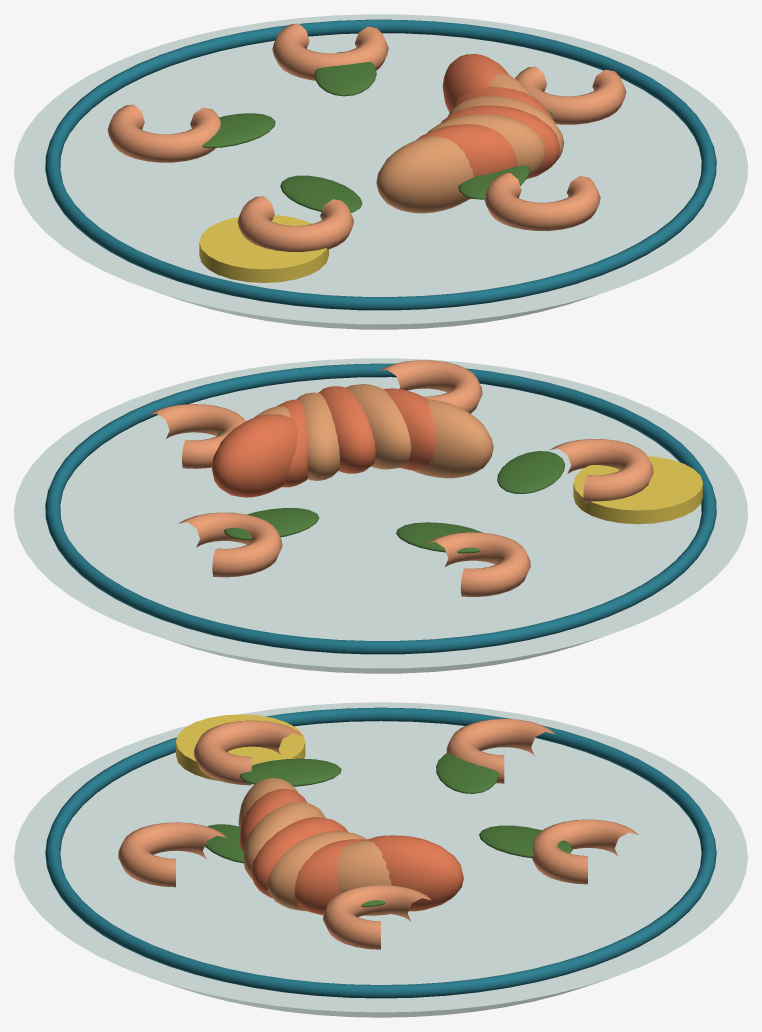
Rendered from food.glb.
3 renders of one model, top to bottom at view 1: azimuth 30°, elevation 25°; view 2: azimuth 150°, elevation 25°; view 3: azimuth 270°, elevation 25°, orthographic.
Parts seen in each view (by area): view 1: object 7, Protein, object 8, Herb leaf (×4), object 9; view 2: object 7, Protein, object 8, Herb leaf (×3), object 9; view 3: object 7, Protein, object 8, Herb leaf (×4), object 9.
Part boxes in pixels (<box>): object 7: <box>14,14,747,329</box>; Protein: <box>107,23,626,251</box>; object 8: <box>45,19,716,310</box>; Herb leaf (×4): <box>202,51,529,212</box>; object 9: <box>199,215,328,282</box>; object 7: <box>14,358,747,673</box>; Protein: <box>148,360,653,596</box>; object 8: <box>45,363,716,654</box>; Herb leaf (×3): <box>224,451,564,553</box>; object 9: <box>573,456,702,524</box>; object 7: <box>14,702,747,1017</box>; Protein: <box>118,718,638,949</box>; object 8: <box>45,707,716,998</box>; Herb leaf (×4): <box>205,752,572,863</box>; object 9: <box>176,714,305,781</box>.
Bounding box in the file's own units: 3.4 × 0.4982 × 3.4.
